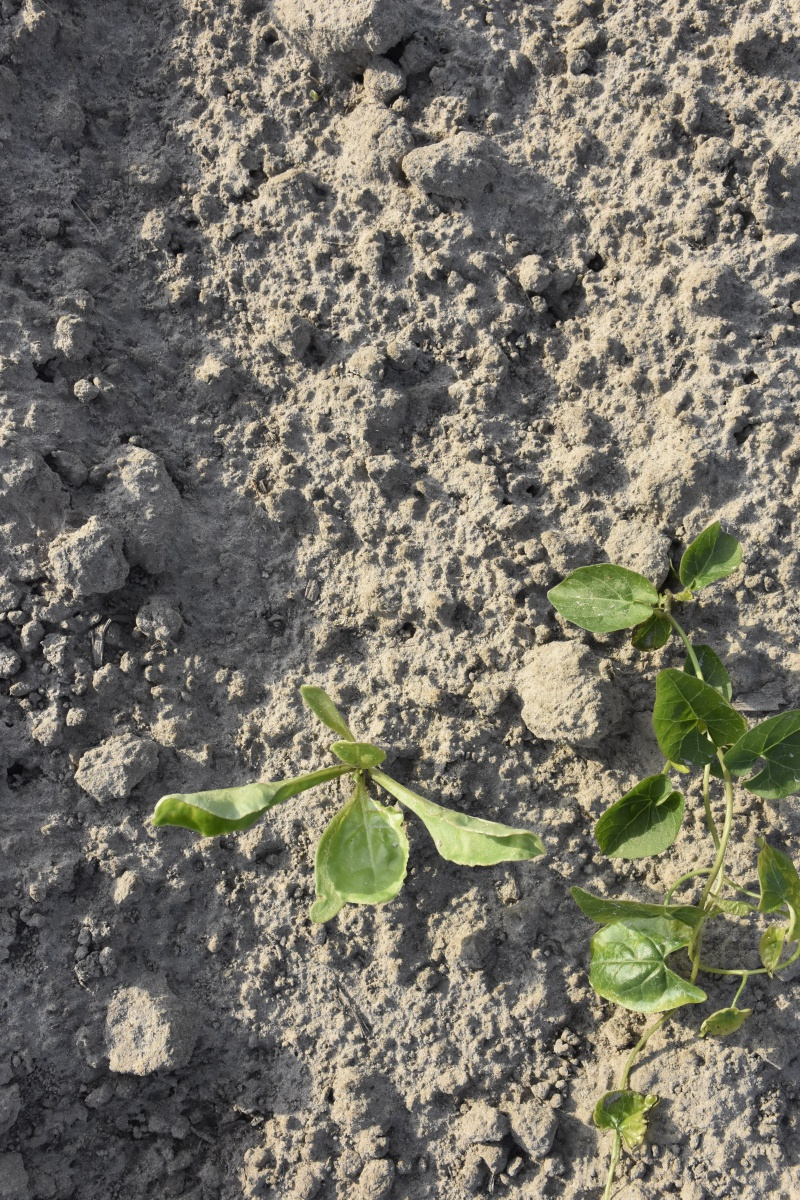field bindweed: (554, 522, 800, 1145)
sugar beet: (143, 689, 544, 921)
